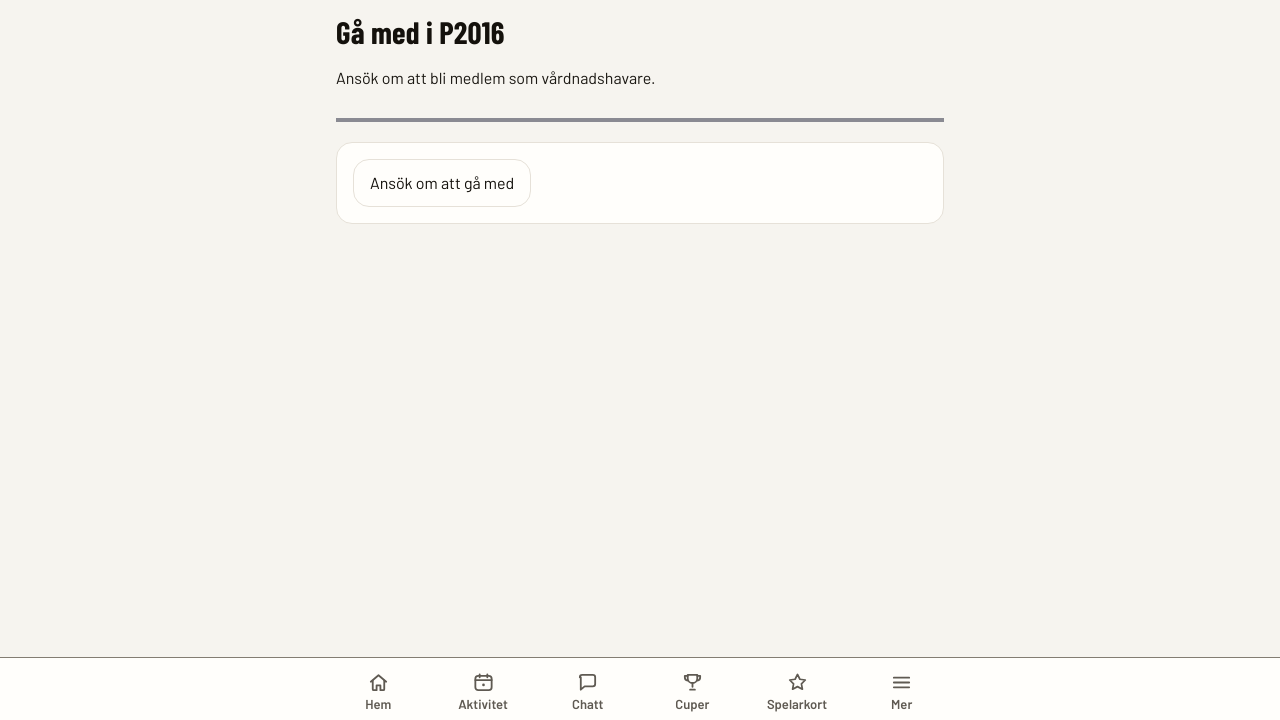
Test: Ansökningssidan › en inloggad kan ansöka
Click the button "Ansök om att gå med": {"x": 442, "y": 183} x1=353 y1=159 x2=531 y2=207
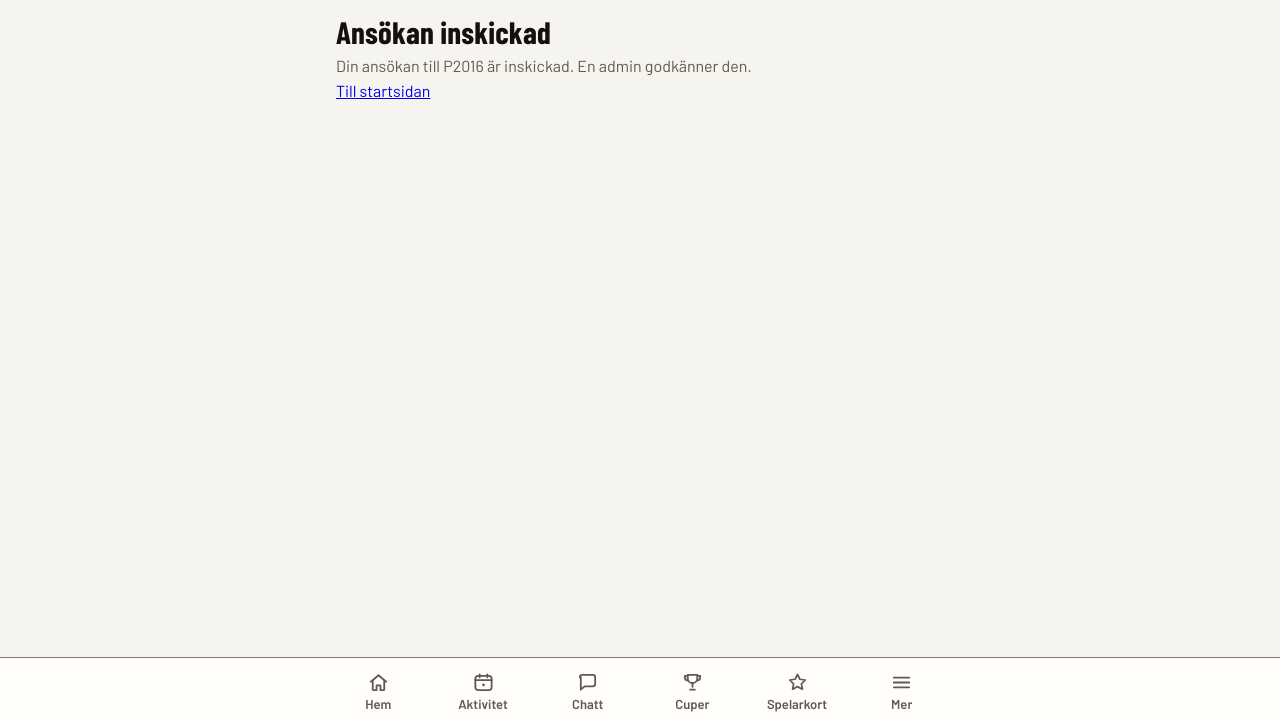
expect the heading "Ansökan inskickad" is shown: met, box x1=336 y1=13 x2=551 y2=50
